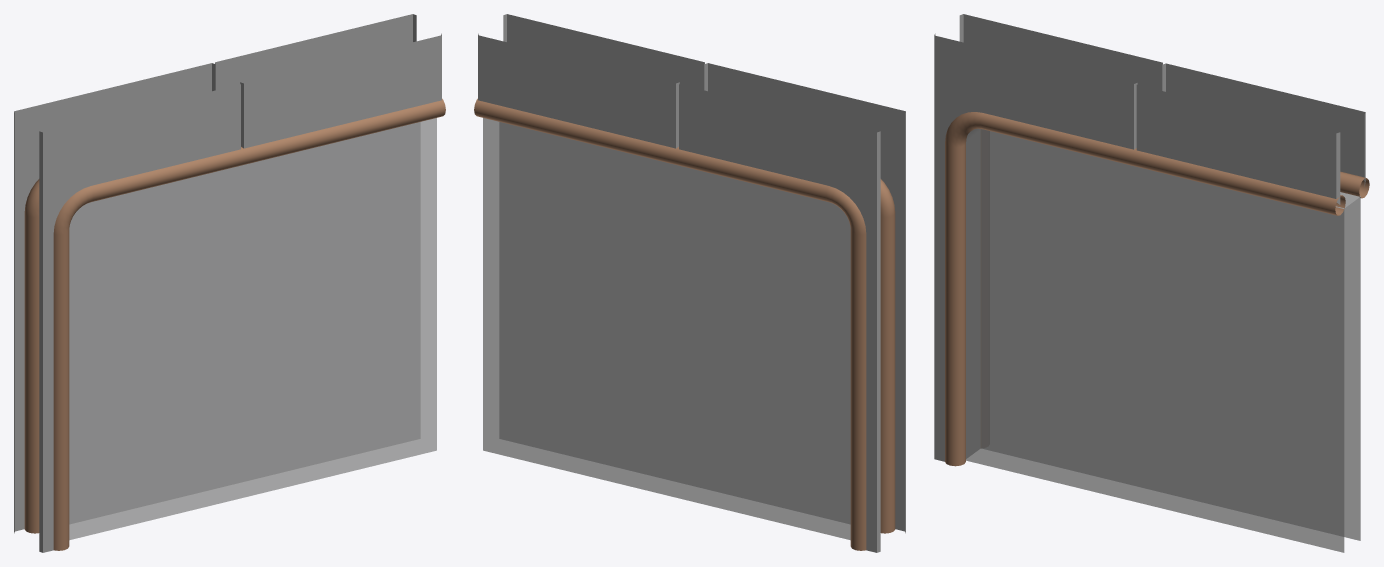
File: wall_window_corner_top.fbx
3 views of the same model, side by side, from view 1: azimuth 30°, elevation 25°; view 2: azimuth 150°, elevation 25°; view 3: azimuth 330°, elevation 25° (orthographic).
Parts seen in each view (by area): view 1: wall_window_corner_top; view 2: wall_window_corner_top; view 3: wall_window_corner_top.
Boxes of the visible parts, x1=… form: wall_window_corner_top: x1=14, y1=14, x2=445, y2=552; wall_window_corner_top: x1=474, y1=14, x2=905, y2=552; wall_window_corner_top: x1=934, y1=14, x2=1369, y2=552.
Size of the model in its own units: 200 by 200 by 29.45.
